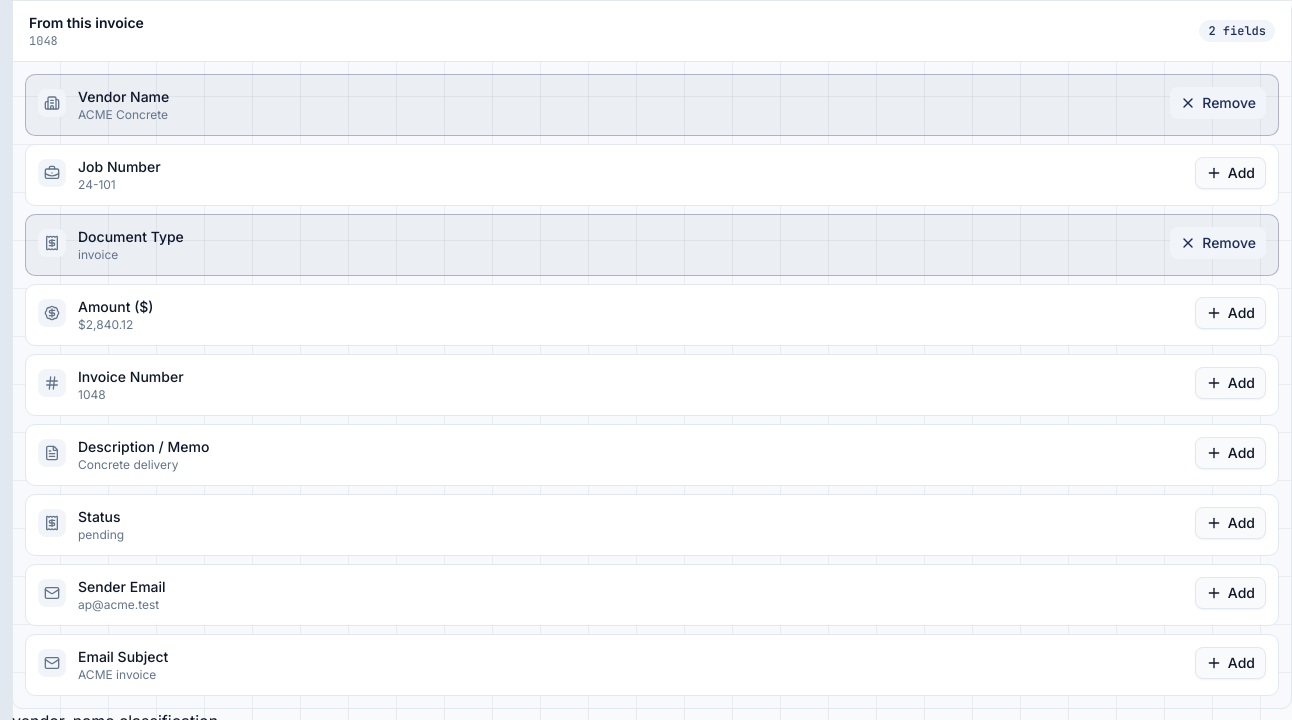
InvoiceRuleContextPanel › adds and removes invoice fields as rule criteria
Expected: the button with aria-label "Add Job Number" is shown, top-left (1195, 157), bottom-right (1266, 189)
Click the button with aria-label "Remove Vendor Name".
click(1218, 103)  # box top-left (1170, 87), bottom-right (1266, 119)
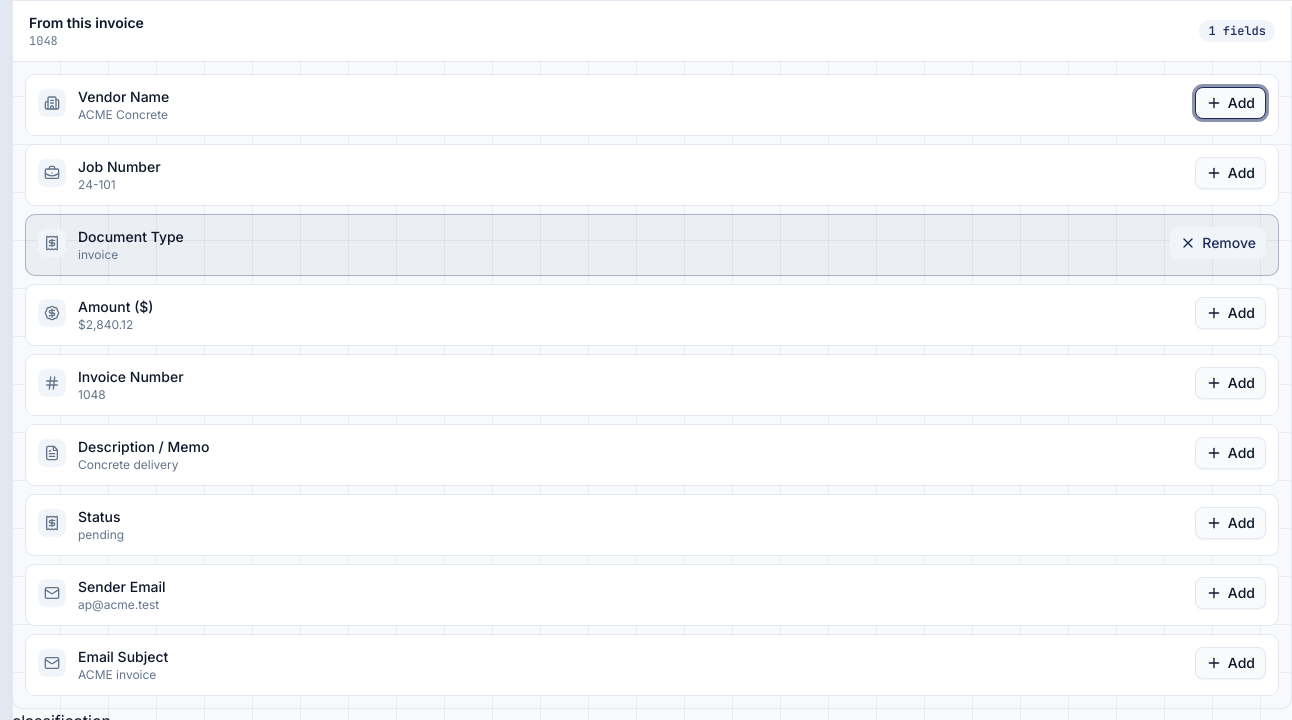
Click the button with aria-label "Add Amount".
click(1230, 313)  # box top-left (1195, 297), bottom-right (1266, 329)
(page scrolled)
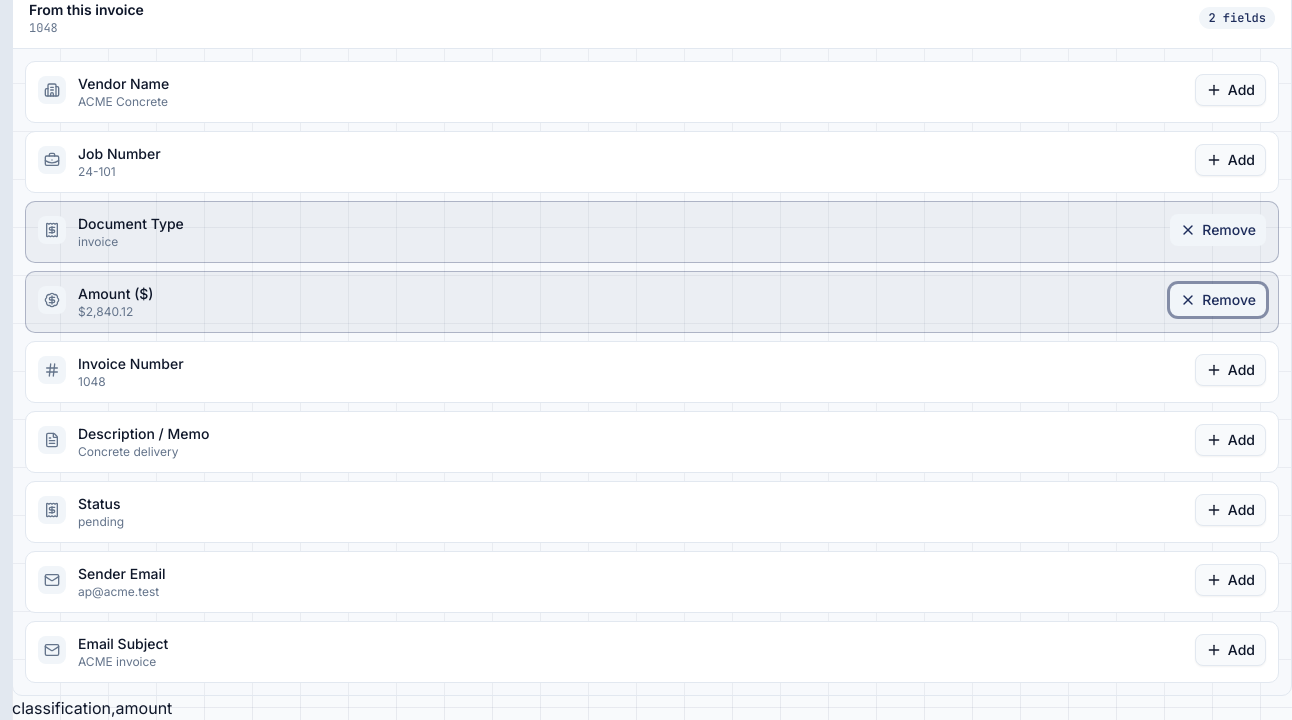
Result: the text with test id "fields" reads "classification,amount" at top-left (12, 698), bottom-right (172, 718)
